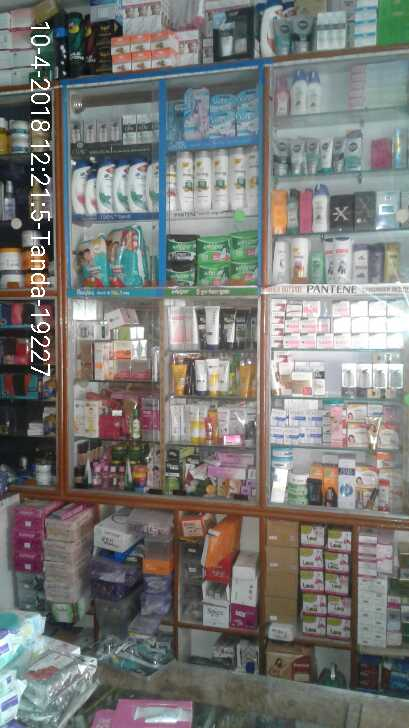venus: (184, 87, 209, 141), (212, 93, 234, 138), (238, 90, 259, 135), (169, 102, 183, 141)
